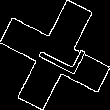L_NW: (25, 30, 85, 80)
